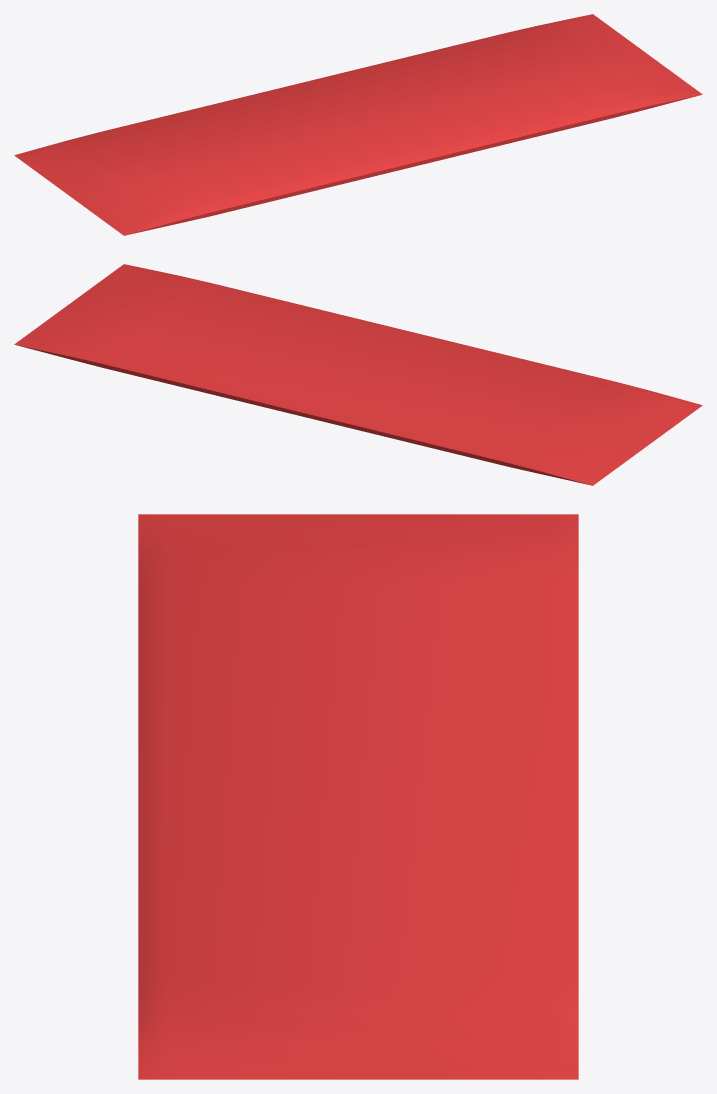
The model's file is plaster case.fbx.
3 views of the same model, one above another, from view 1: azimuth 30°, elevation 25°; view 2: azimuth 150°, elevation 25°; view 3: azimuth 270°, elevation 25° (orthographic). The views are drawn at different scales.
Visible parts, largest first — view 1: kantong plaster.011; view 2: kantong plaster.011; view 3: kantong plaster.011.
Boxes of the visible parts, x1,y1,x2,y2 form: kantong plaster.011: [14, 14, 702, 235]; kantong plaster.011: [14, 264, 702, 485]; kantong plaster.011: [138, 514, 578, 1079].
Bounding box in the file's own units: 0.0773 × 0.00211 × 0.0254.
